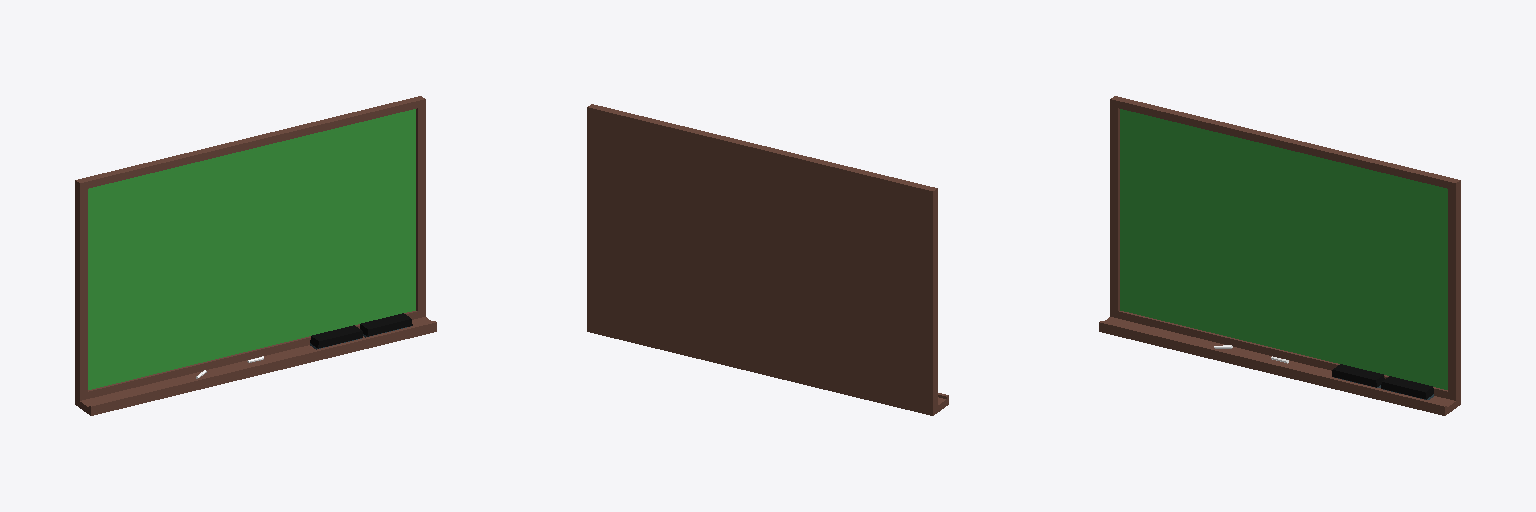
The model's file is Blackboard_01.obj.
3 views of the same model, side by side, from view 1: azimuth 30°, elevation 25°; view 2: azimuth 150°, elevation 25°; view 3: azimuth 330°, elevation 25° (orthographic).
Visible parts, largest first — view 1: Blackboard_01_Cube.029, Blackboard_01.003_Cube.039, Blackboard_01.002_Cube.038; view 2: Blackboard_01_Cube.029; view 3: Blackboard_01_Cube.029, Blackboard_01.002_Cube.038, Blackboard_01.003_Cube.039.
Part boxes in pixels (left/top/right/bottom): Blackboard_01_Cube.029: left=75, top=96, right=436, bottom=415; Blackboard_01.003_Cube.039: left=310, top=325, right=362, bottom=349; Blackboard_01.002_Cube.038: left=360, top=313, right=412, bottom=337; Blackboard_01_Cube.029: left=587, top=104, right=948, bottom=415; Blackboard_01_Cube.029: left=1099, top=96, right=1460, bottom=415; Blackboard_01.002_Cube.038: left=1381, top=376, right=1433, bottom=399; Blackboard_01.003_Cube.039: left=1332, top=364, right=1384, bottom=387.
Bounding box in the file's own units: 9.98 × 6.2 × 0.7805.